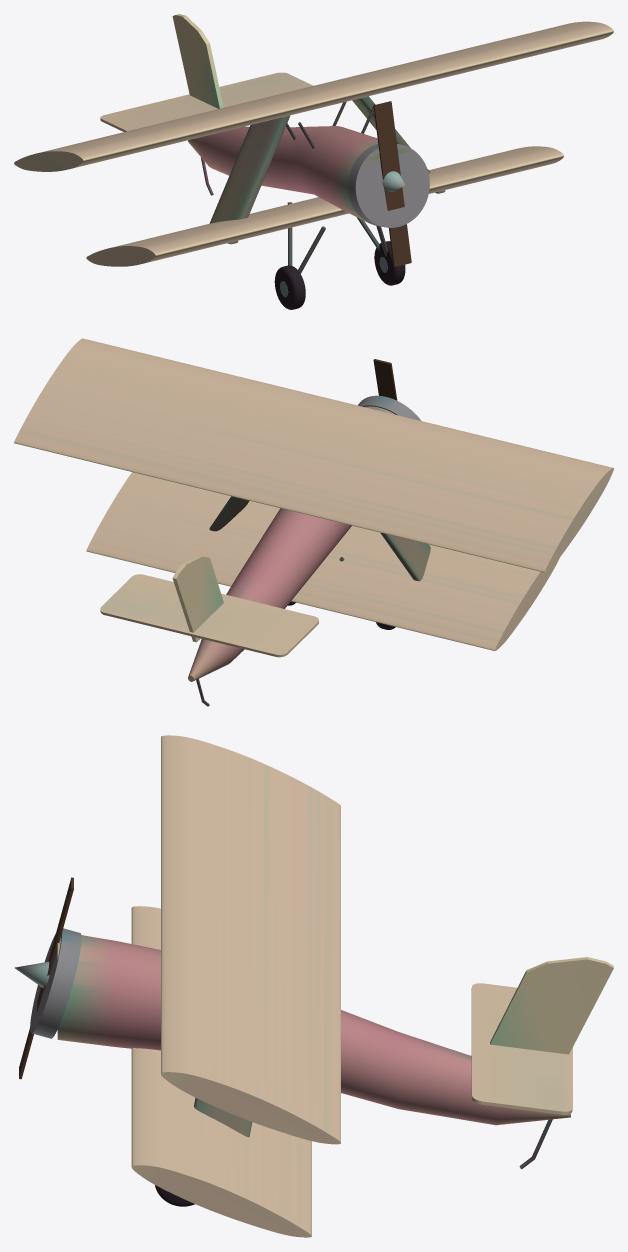
The picture shows the model from 3 angles, top to bottom: view 1: azimuth 30°, elevation 25°; view 2: azimuth 150°, elevation 25°; view 3: azimuth 270°, elevation 25°; orthographic projection. The views are drawn at different scales.
Parts seen in each view (by area): view 1: upper_wing, lower_wing, fuselage, cowling, tailplane, strut.001, fin, blades, tyre.001, tyre, strut; view 2: upper_wing, lower_wing, tailplane, fuselage, fin, strut.001, blades, cowling, strut; view 3: upper_wing, fuselage, lower_wing, tailplane, fin, cowling, blades, strut.
Part boxes in pixels (x1,y1,x2,y2): upper_wing: [14, 21, 613, 171]; lower_wing: [86, 146, 563, 266]; fuselage: [188, 126, 409, 222]; cowling: [348, 144, 429, 227]; tailplane: [100, 72, 313, 131]; strut.001: [209, 115, 290, 244]; fin: [172, 14, 223, 108]; blades: [373, 101, 411, 266]; tyre.001: [274, 265, 305, 309]; tyre: [374, 241, 405, 285]; strut: [352, 96, 445, 193]; upper_wing: [14, 338, 613, 572]; lower_wing: [86, 472, 559, 650]; tailplane: [100, 574, 318, 657]; fuselage: [188, 406, 394, 681]; fin: [172, 556, 223, 642]; strut.001: [380, 532, 430, 581]; blades: [373, 359, 397, 400]; cowling: [358, 395, 421, 420]; strut: [209, 496, 249, 531]; upper_wing: [161, 735, 340, 1144]; fuselage: [57, 935, 570, 1125]; lower_wing: [131, 906, 311, 1237]; tailplane: [471, 983, 572, 1114]; fin: [490, 957, 613, 1054]; cowling: [30, 928, 81, 1038]; blades: [19, 877, 73, 1079]; strut: [194, 1097, 252, 1137].
Size of the model in its own units: 9 by 3.62 by 6.78.
